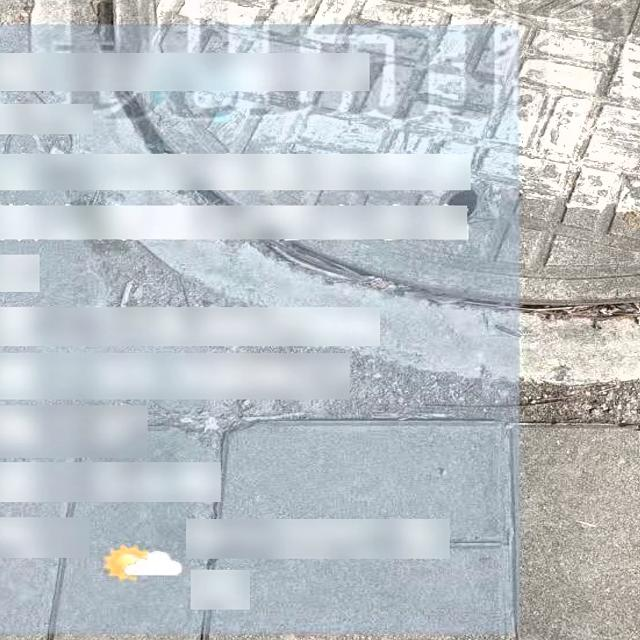circle: (82, 0, 640, 357)
